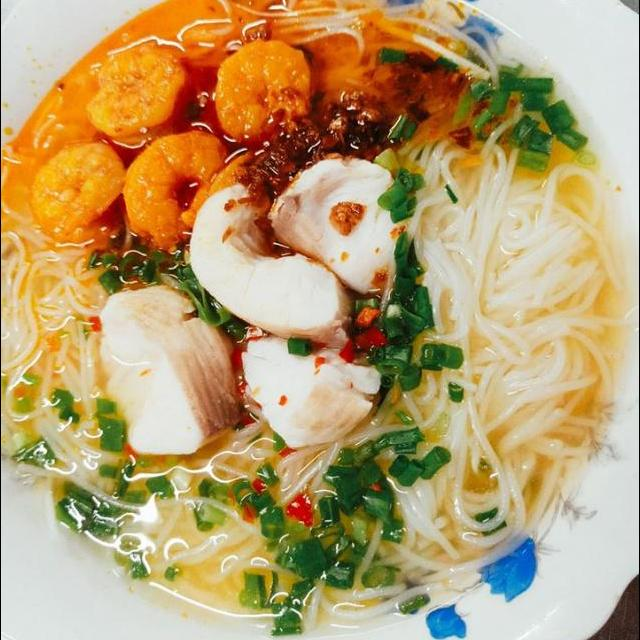bun: (385, 101, 621, 585), (60, 444, 438, 634), (2, 236, 103, 484)
bun ca: (21, 0, 596, 640)
ca: (93, 287, 242, 461), (187, 181, 355, 335), (261, 149, 408, 301), (239, 329, 385, 456)
tom: (115, 126, 244, 255), (199, 35, 321, 154), (80, 45, 205, 159), (25, 134, 135, 247)
